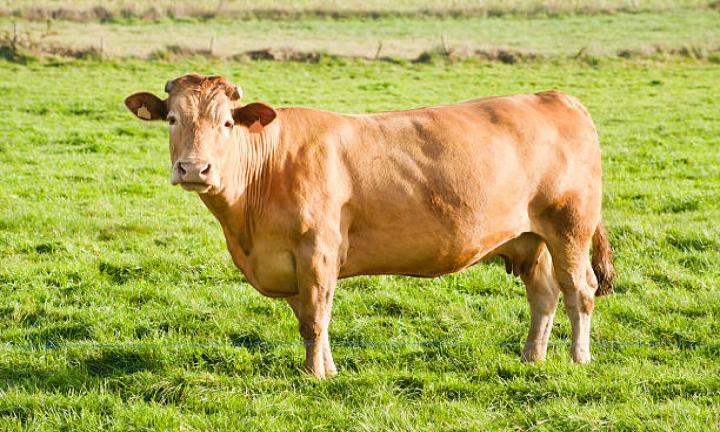Charolais: (125, 74, 613, 376)
